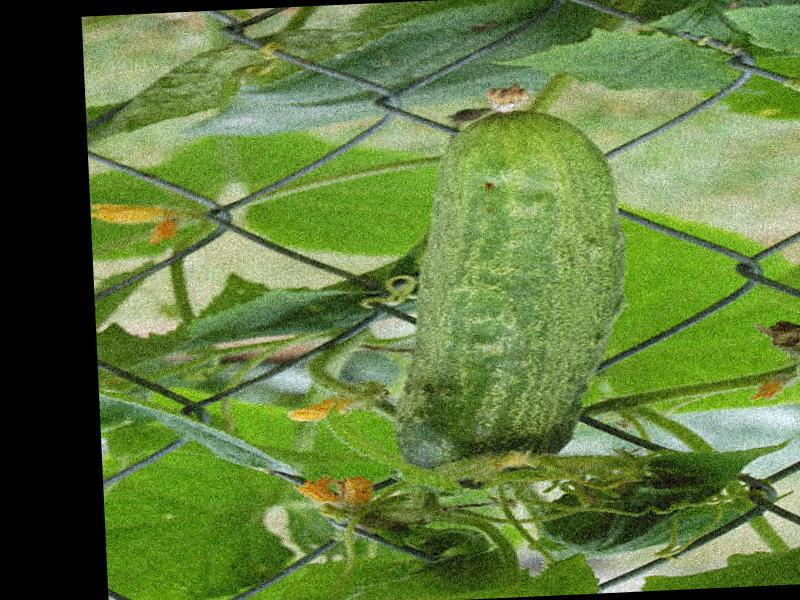Cucumber: (387, 84, 629, 488)
